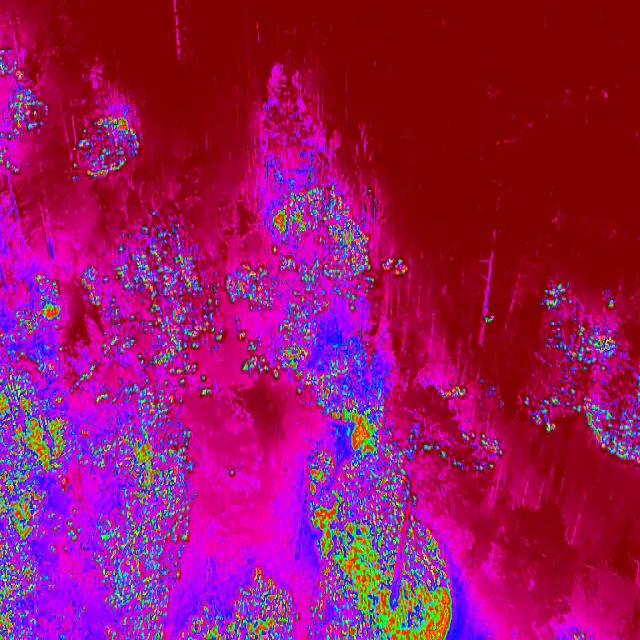fire: (62, 211, 190, 640), (304, 402, 454, 640), (276, 187, 386, 401), (0, 267, 62, 640), (535, 282, 640, 458), (190, 244, 278, 400), (190, 569, 299, 640), (438, 379, 504, 476), (0, 50, 49, 172), (65, 110, 144, 182), (378, 252, 408, 278)
